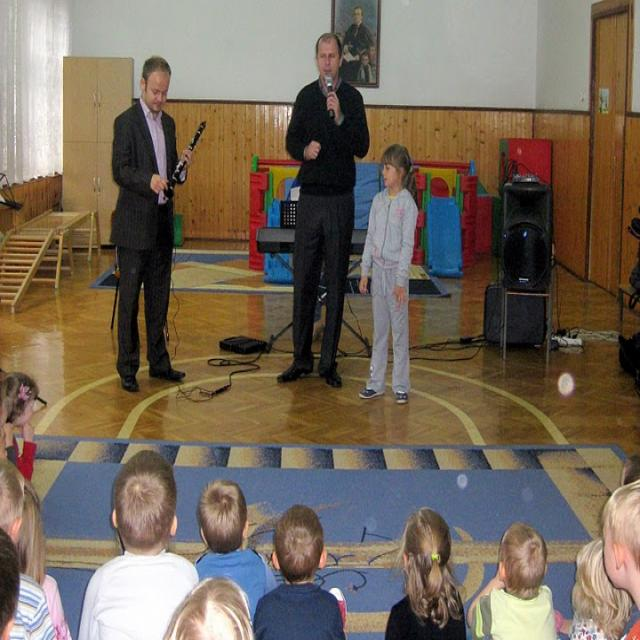clarinet: (162, 119, 208, 202)
